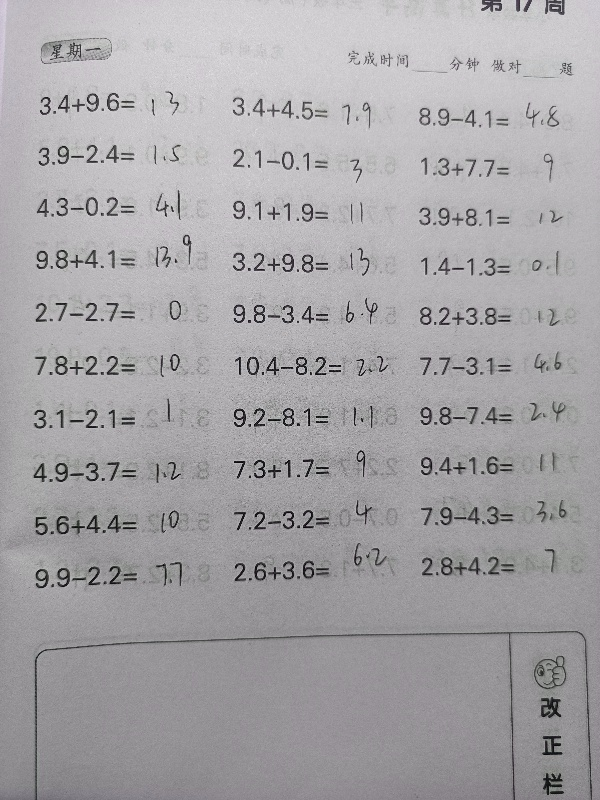equation: (225, 400, 405, 441), (225, 552, 405, 588), (28, 188, 208, 224), (29, 136, 209, 172), (26, 558, 206, 593), (413, 549, 593, 584), (25, 506, 205, 541), (224, 502, 404, 537), (24, 454, 204, 489), (225, 451, 405, 486), (25, 402, 205, 437), (226, 349, 406, 384), (26, 347, 206, 382), (27, 295, 207, 330), (28, 242, 208, 277), (223, 91, 403, 126), (30, 85, 210, 120), (412, 498, 592, 532), (411, 448, 591, 482), (412, 399, 592, 433), (412, 349, 592, 383), (411, 299, 591, 333), (225, 297, 405, 331), (223, 245, 403, 279), (411, 200, 591, 234), (223, 194, 403, 228), (412, 150, 592, 184), (224, 143, 404, 177), (410, 100, 590, 134), (412, 250, 592, 283)
